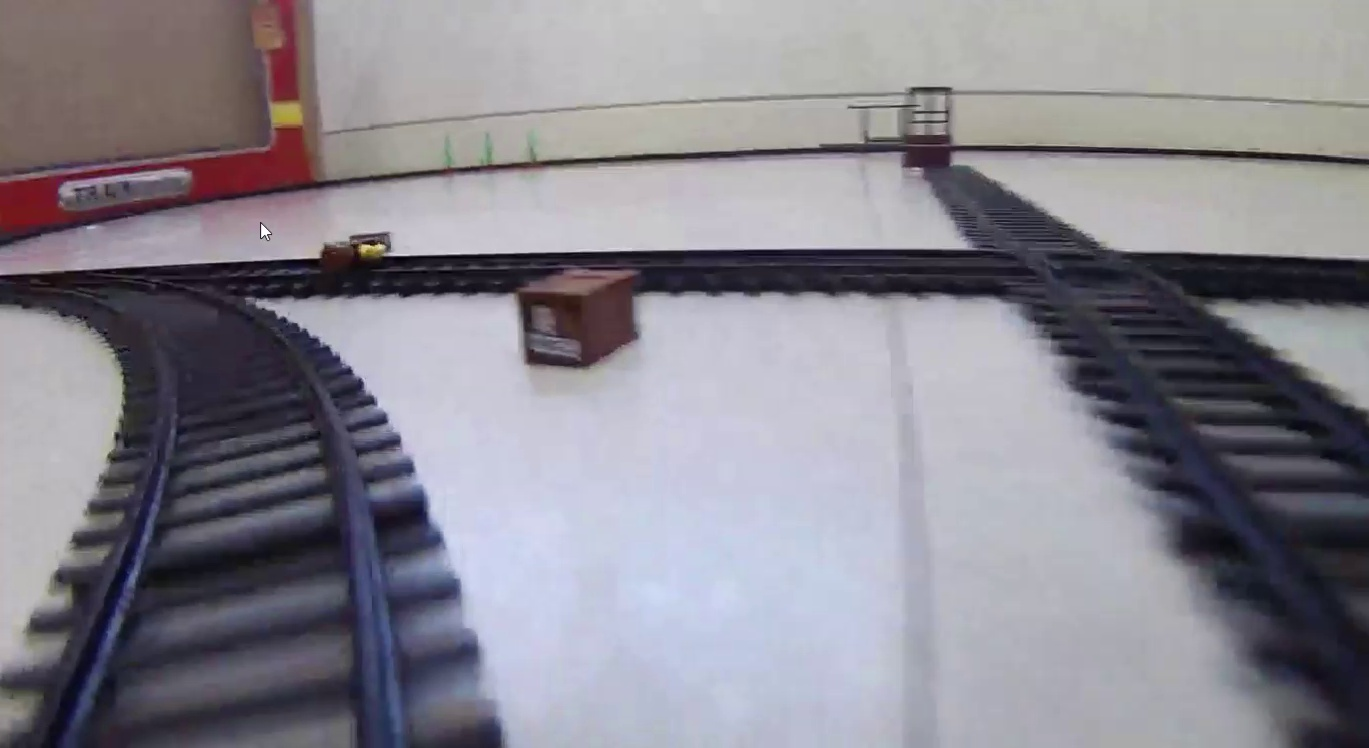box: (520, 267, 630, 367)
